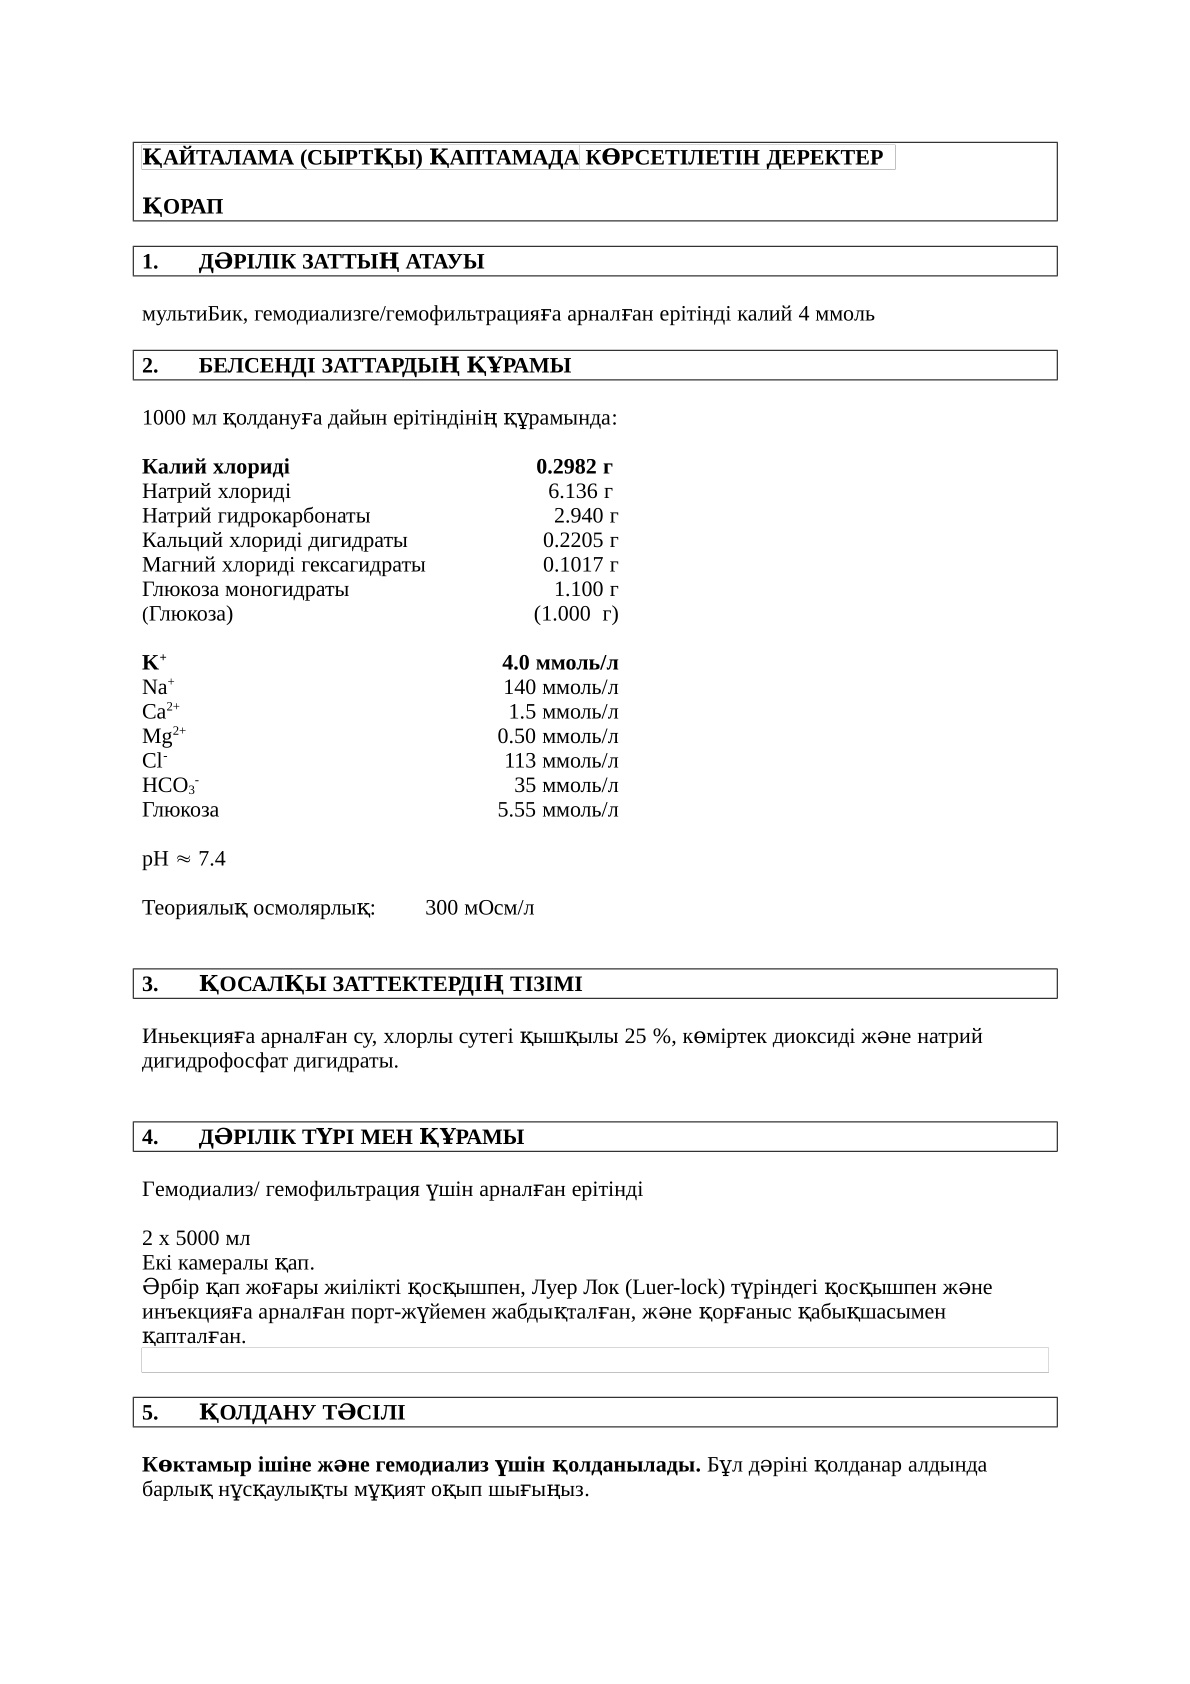nolines: (137, 451, 625, 827)
